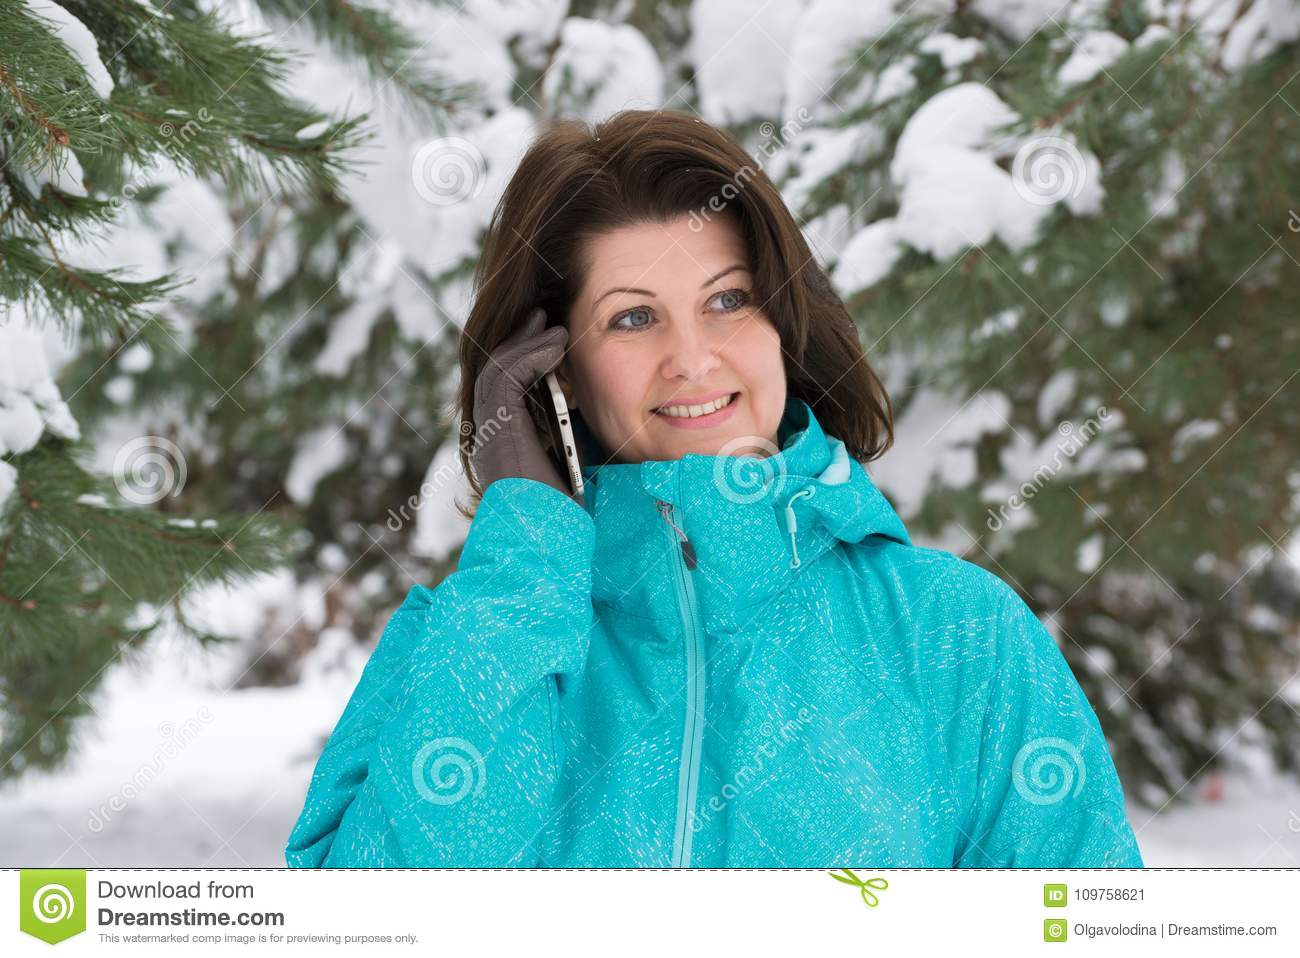phone: (529, 339, 588, 506)
talk: (467, 243, 786, 533)
